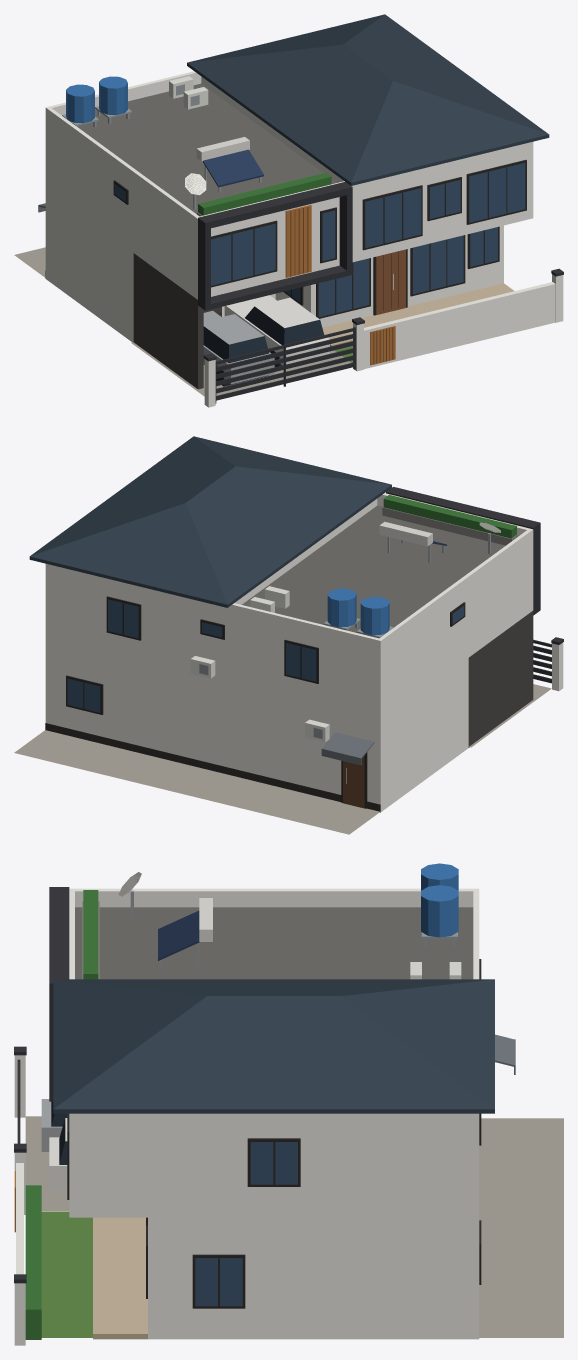
The model's file is rumah2_08.glb.
The picture shows the model from 3 angles, top to bottom: view 1: azimuth 30°, elevation 25°; view 2: azimuth 150°, elevation 25°; view 3: azimuth 270°, elevation 25°; orthographic projection. The views are drawn at different scales.
Parts seen in each view (by area): view 1: rumah2_08; view 2: rumah2_08; view 3: rumah2_08.
Part boxes in pixels (box(x1,y1,x2,y2)): rumah2_08: box(14, 14, 563, 407); rumah2_08: box(14, 436, 563, 834); rumah2_08: box(14, 863, 563, 1345).
Size of the model in its own units: 14 by 7.97 by 13.95.
